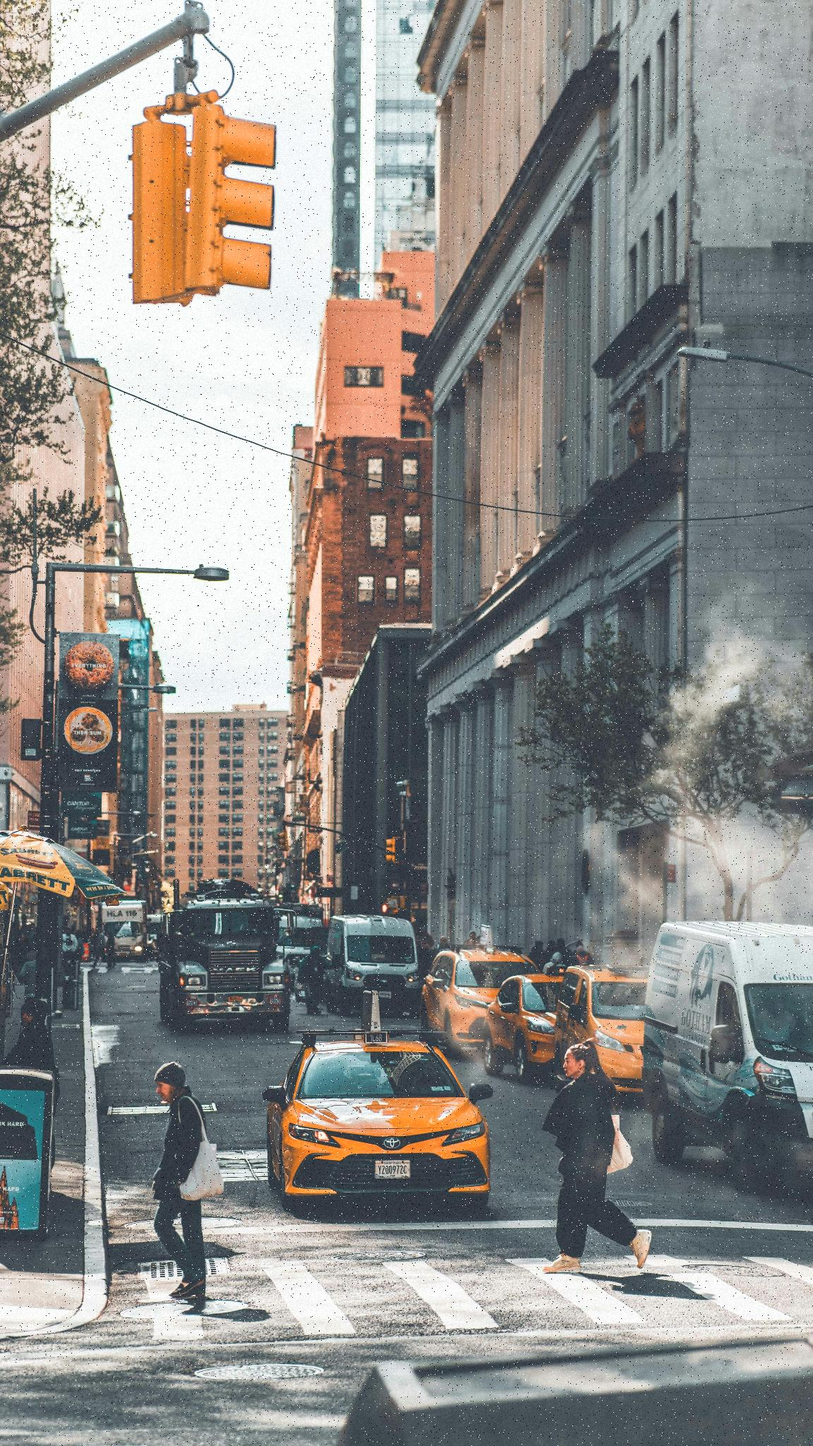car: (643, 914, 813, 1197), (266, 1027, 494, 1203), (158, 892, 289, 1034), (305, 914, 426, 1040), (569, 963, 652, 1080), (422, 954, 494, 1072), (491, 980, 559, 1082), (115, 919, 145, 965)
pedestrian: (543, 1047, 654, 1279), (152, 1061, 208, 1307)
